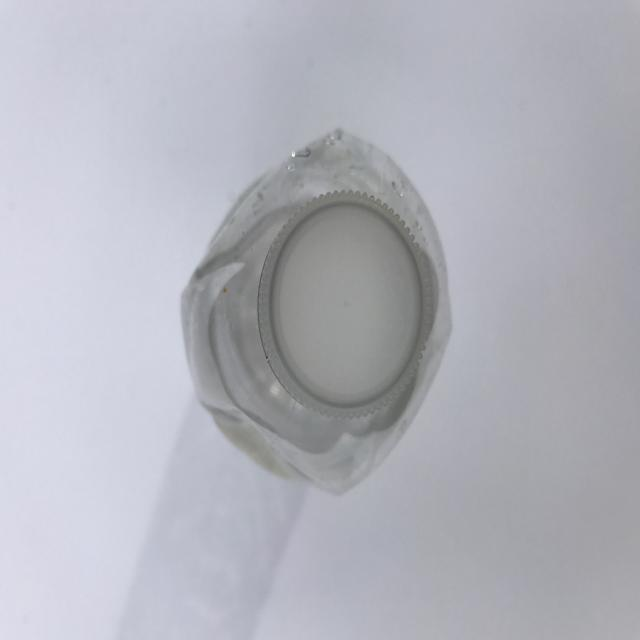plastic: (180, 126, 453, 496)
